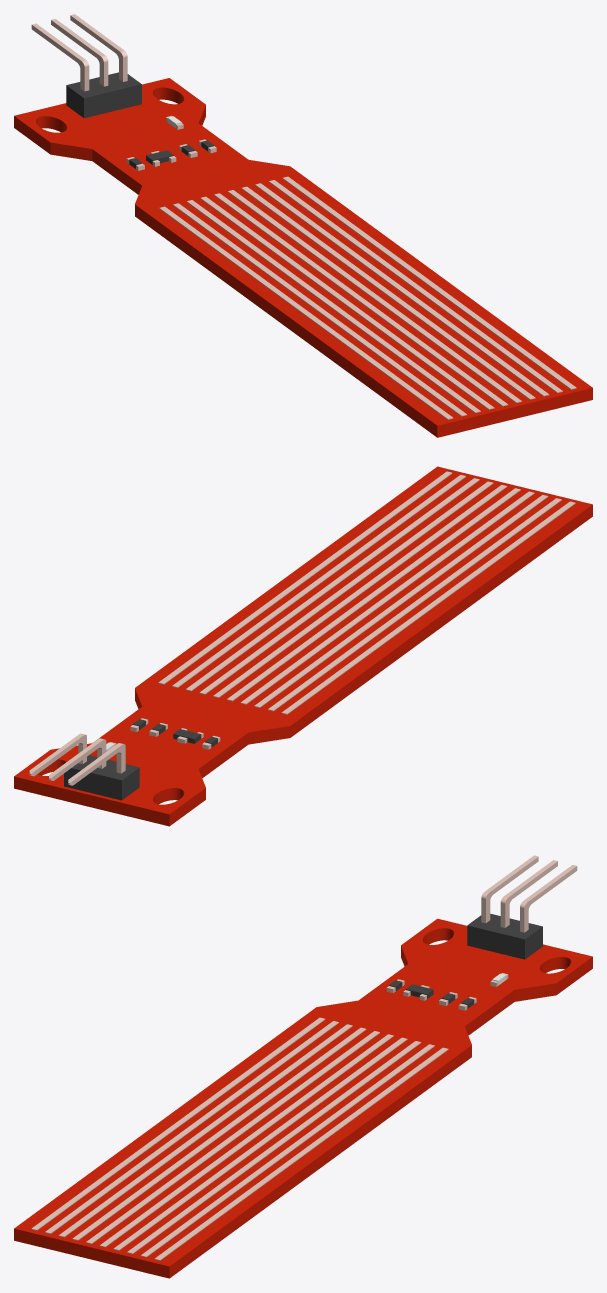
The model's file is sensor2.obj.
3 views of the same model, one above another, from view 1: azimuth 30°, elevation 25°; view 2: azimuth 150°, elevation 25°; view 3: azimuth 330°, elevation 25° (orthographic).
Size of the model in its own units: 20.2 by 8 by 104.
